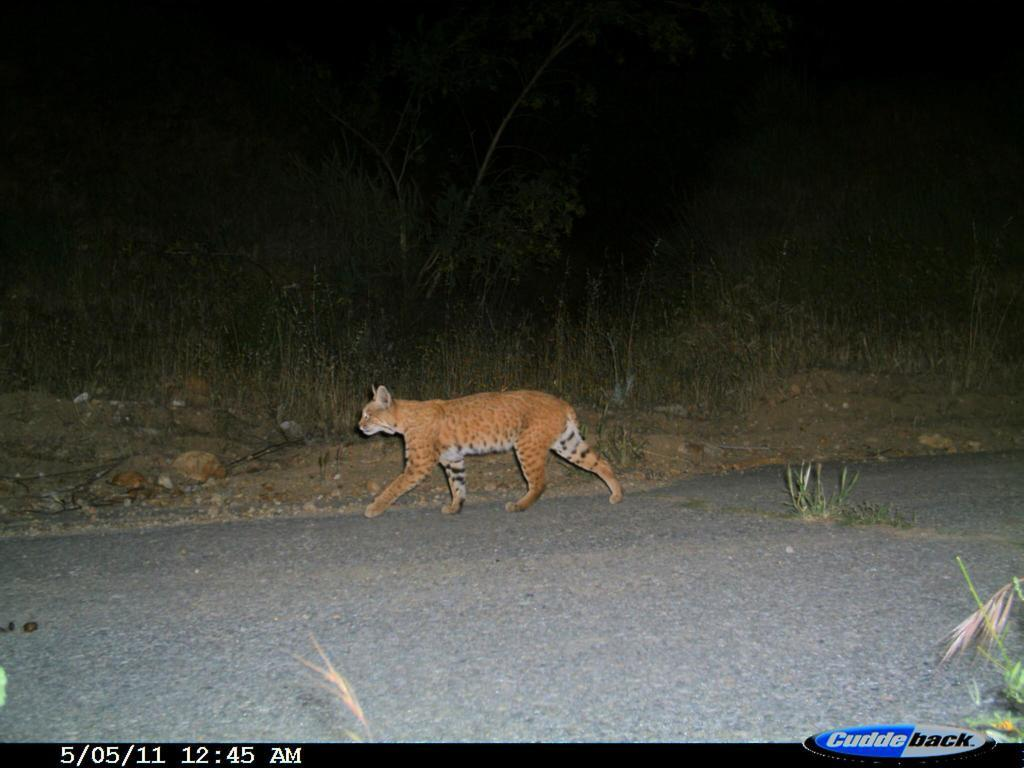bobcat: (345, 377, 630, 538)
